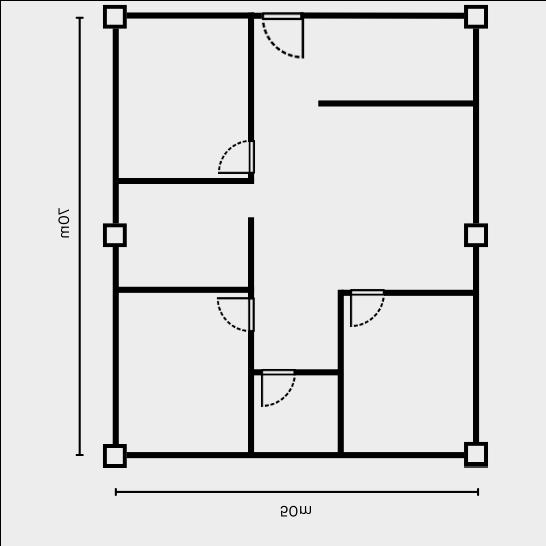Blueprint: (96, 0, 493, 476)
